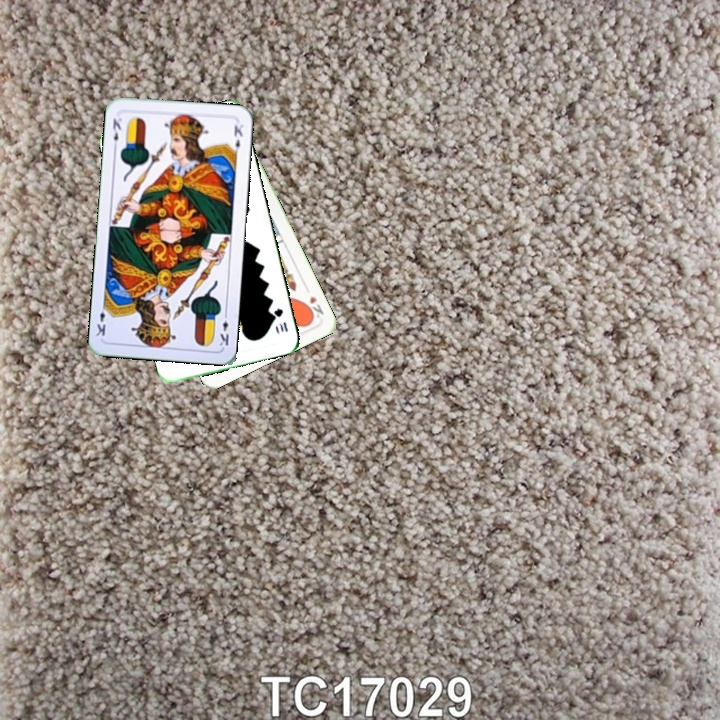EK: (106, 114, 124, 151), (216, 308, 231, 348)
G10: (270, 304, 290, 334)
HK: (301, 292, 326, 323)
